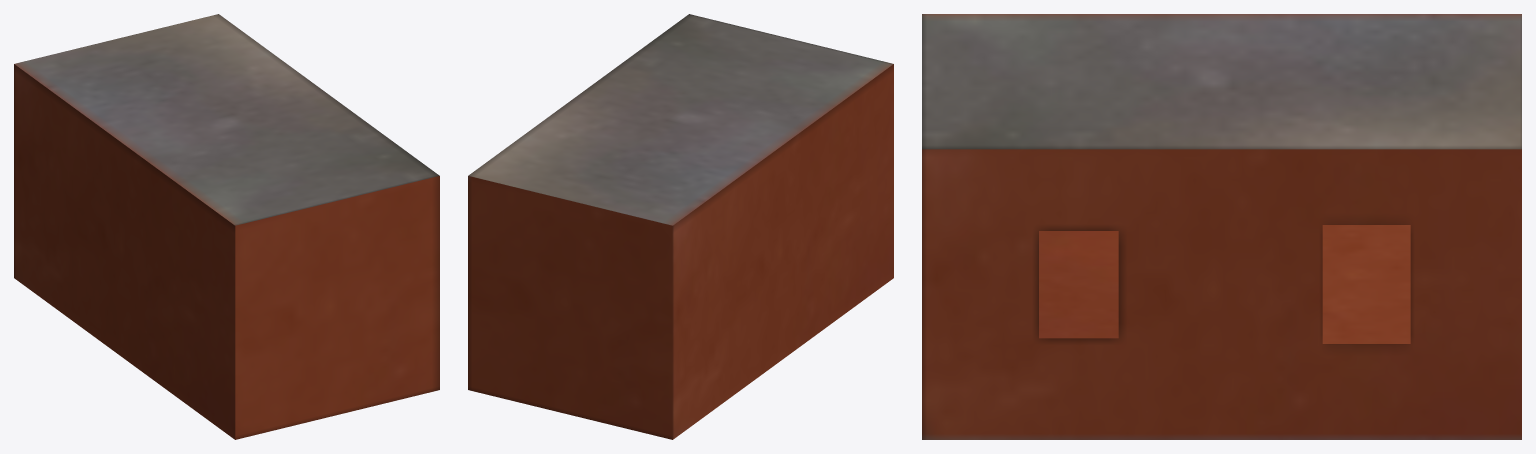
Rendered from OldFurnace.fbx.
The picture shows the model from 3 angles, left to right: view 1: azimuth 30°, elevation 25°; view 2: azimuth 150°, elevation 25°; view 3: azimuth 270°, elevation 25°; orthographic projection. The views are drawn at different scales.
Parts seen in each view (by area): view 1: Plane; view 2: Plane; view 3: Plane.
Part boxes in pixels (bbox=[...]): Plane: bbox=[14, 14, 439, 439]; Plane: bbox=[468, 14, 893, 439]; Plane: bbox=[922, 14, 1521, 439].
Bounding box in the file's own units: 79.99 × 80 × 150.
Materials: 1 (1 with a texture image).
